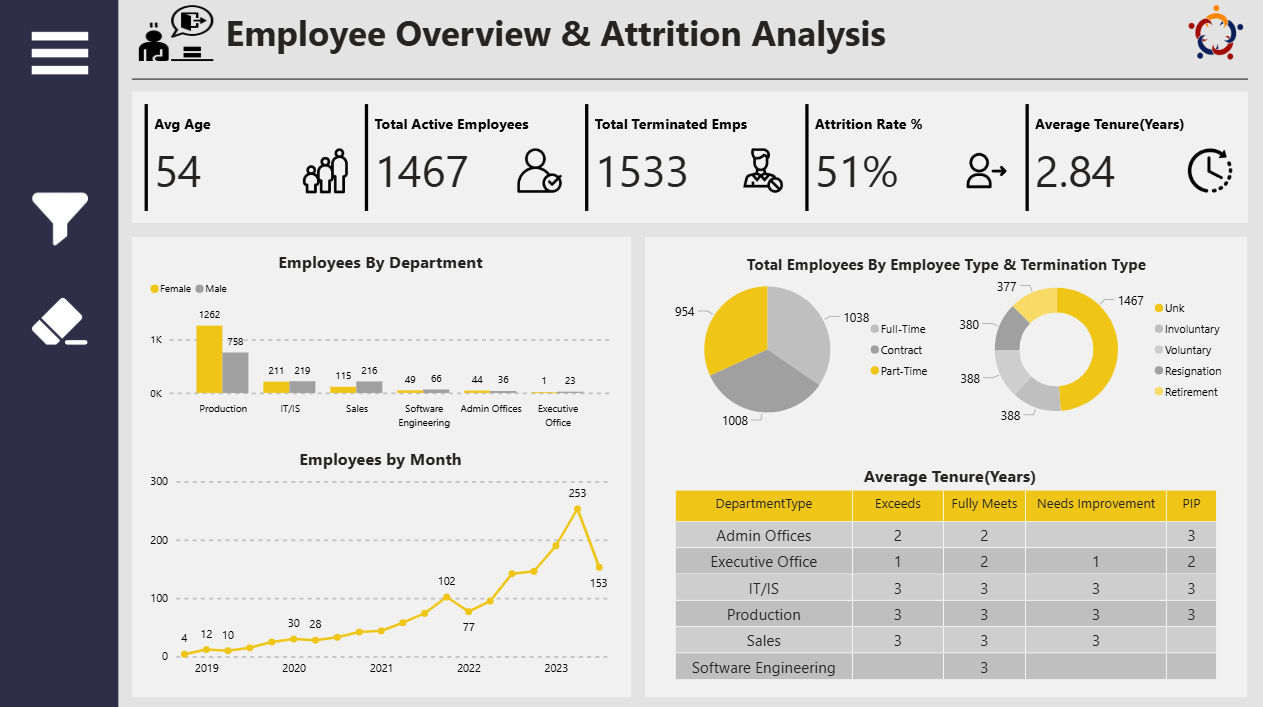

This screenshot's page, from the dashboard's own definition file:
{"tool":"powerbi","page":{"name":"Emp Overview & Attrition","canvas":[1536,864],"ordinal":0},"visuals":[{"type":"shape","box":[160,112,1358.1,160],"z":0},{"type":"cardVisual","fields":{"Data":["employee_data.Avg Age","Measure Table.Total Active Employees","Measure Table.Total Inactive Emps","Measure Table.Attrition Rate %","Measure Table.Average Tenure(Years)"]},"box":[160,112,1358.1,160],"z":1000},{"type":"shape","box":[785.5,288,732.7,560],"z":2000},{"type":"shape","box":[160,288,607.6,560],"z":3000},{"type":"clusteredColumnChart","title":"Employees By Department","fields":{"Category":["employee_data.DepartmentType"],"Y":["Measure Table.All Emps"],"Series":["employee_data.GenderCode"]},"box":[177.9,304,571.8,224],"z":4000},{"type":"lineChart","title":"Employees by Month","fields":{"Category":["employee_data.ExitDate.Variation.Date Hierarchy.Year","employee_data.ExitDate.Variation.Date Hierarchy.Quarter","employee_data.ExitDate.Variation.Date Hierarchy.Month"],"Y":["Measure Table.All Emps"]},"box":[177.9,544,571.8,288],"z":5000},{"type":"pieChart","fields":{"Y":["Measure Table.All Emps"],"Category":["employee_data.EmployeeType"]},"box":[803.3,304,339.5,240],"z":6000},{"type":"donutChart","fields":{"Y":["Measure Table.All Emps"],"Category":["employee_data.TerminationType"]},"box":[1160.7,304,339.5,240],"z":7000},{"type":"pivotTable","title":"Average Tenure(Years)","fields":{"Rows":["employee_data.DepartmentType"],"Columns":["employee_data.GenderCode","employee_data.EmployeeType","employee_data.Performance_Score"],"Values":["Measure Table.Average Tenure(Years)"]},"box":[803.3,560,696.9,272],"z":8000},{"type":"textbox","box":[267.2,0,1268.8,80],"z":9000},{"type":"image","box":[160,0,107.2,80],"z":10000},{"type":"shape","box":[160,80,1358.1,32],"z":11000},{"type":"textbox","box":[803.2,303.5,697.1,34.4],"z":12000},{"type":"image","box":[362.7,175.6,64.9,64.9],"z":13000},{"type":"shape","box":[0,0,144,864],"z":15000},{"type":"image","box":[32.4,32.4,80.2,63],"z":16000},{"type":"image","box":[32.4,225.2,80.2,80.2],"z":17000},{"type":"image","box":[32.4,351.2,80.2,80.2],"z":18000},{"type":"image","box":[1441.1,0,78.3,80.2],"z":19000},{"type":"image","box":[624,176,64,64],"z":21000},{"type":"image","box":[896,176,64,64],"z":22000},{"type":"image","box":[1168,176,64,64],"z":23000},{"type":"image","box":[1440,176,64,64],"z":24000}]}

Visuals, with their boxes in screenshot pixels (x1, y1, x2, y2), scaled from the page's 1536x864 canvas onto the 1263x707 screenshot:
shape: 132, 92, 1248, 223
cardVisual - employee_data.Avg Age x Measure Table.Total Active Employees: 132, 92, 1248, 223
shape: 646, 236, 1248, 694
shape: 132, 236, 631, 694
"Employees By Department" clusteredColumnChart: 146, 249, 616, 432
"Employees by Month" lineChart: 146, 445, 616, 681
pieChart - Measure Table.All Emps x employee_data.EmployeeType: 661, 249, 940, 445
donutChart - Measure Table.All Emps x employee_data.TerminationType: 954, 249, 1234, 445
"Average Tenure(Years)" pivotTable: 661, 458, 1234, 681
textbox: 220, 0, 1262, 65
image: 132, 0, 220, 65
shape: 132, 65, 1248, 92
textbox: 660, 248, 1234, 276
image: 298, 144, 352, 197
shape: 0, 0, 118, 706
image: 27, 27, 93, 78
image: 27, 184, 93, 250
image: 27, 287, 93, 353
image: 1185, 0, 1249, 66
image: 513, 144, 566, 196
image: 737, 144, 789, 196
image: 960, 144, 1013, 196
image: 1184, 144, 1237, 196
